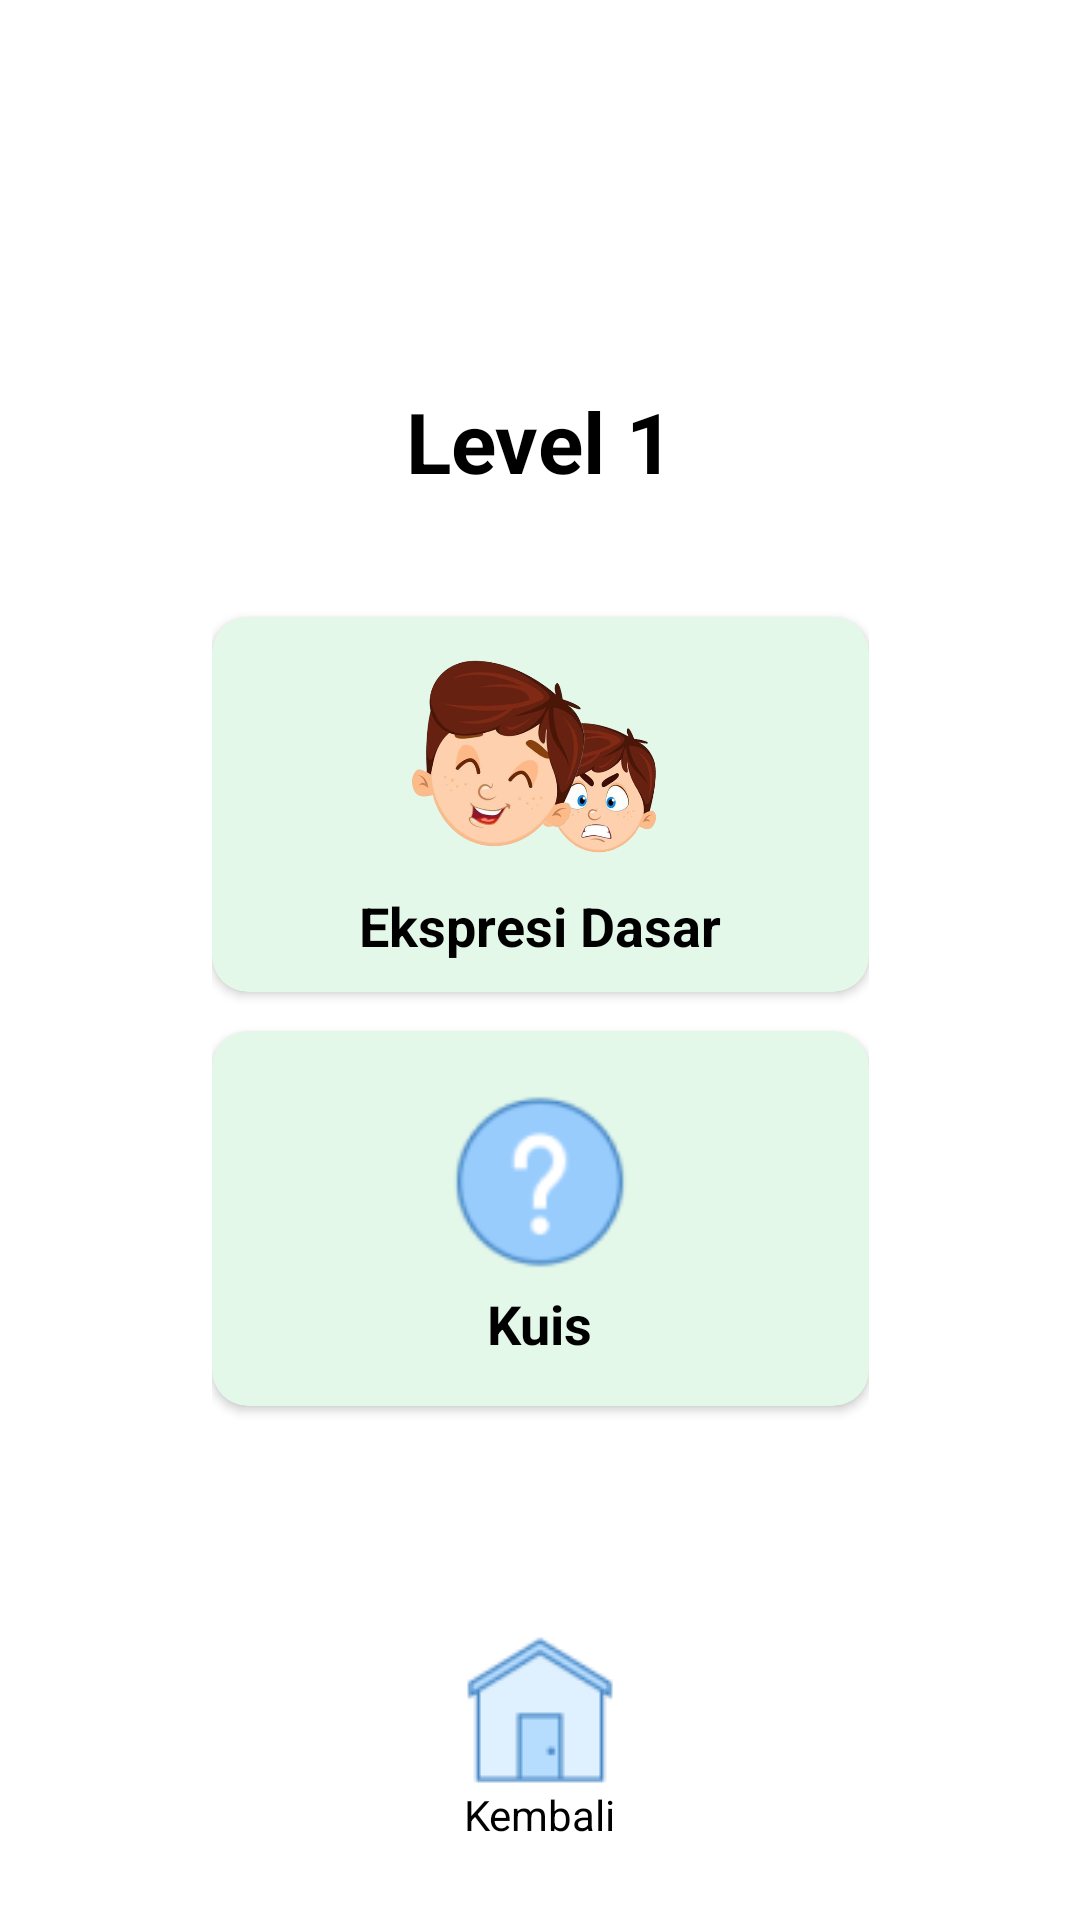

Icon click points for this 1080x1920 phone screenshot, format point (x, y):
help: point (540, 1182)
home: point (540, 1733)
